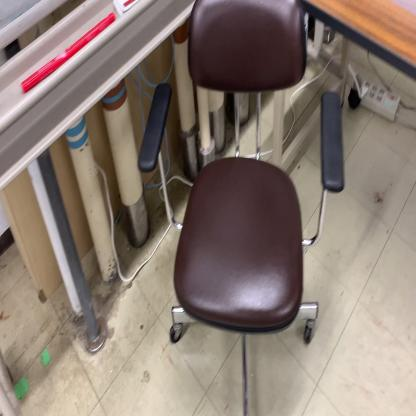chair: (133, 0, 348, 411)
